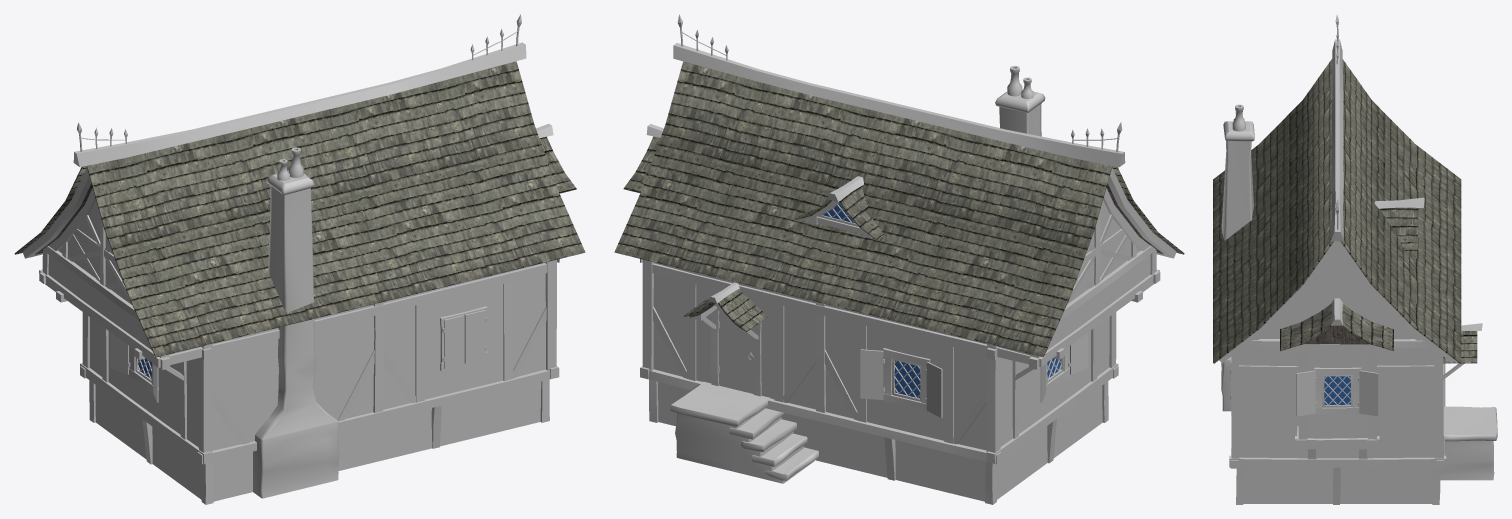
Rendered from mw_type_1_cottage_06.FBX.
3 views of the same model, side by side, from view 1: azimuth 30°, elevation 25°; view 2: azimuth 150°, elevation 25°; view 3: azimuth 270°, elevation 25° (orthographic). The views are drawn at different scales.
Visible parts, largest first — view 1: mw_type_1_cottage_06_roof, mw_type_1_cottage_06_stone, mw_type_1_cottage_06_wood, mw_type_1_cottage_06; view 2: mw_type_1_cottage_06_roof, mw_type_1_cottage_06_stone, mw_type_1_cottage_06_wood, mw_type_1_cottage_06; view 3: mw_type_1_cottage_06_roof, mw_type_1_cottage_06_stone, mw_type_1_cottage_06_wood, mw_type_1_cottage_06.
Boxes of the visible parts, x1=… form: mw_type_1_cottage_06_roof: x1=14, y1=61, x2=585, y2=357; mw_type_1_cottage_06_stone: x1=48, y1=147, x2=545, y2=501; mw_type_1_cottage_06_wood: x1=22, y1=42, x2=559, y2=504; mw_type_1_cottage_06: x1=77, y1=14, x2=559, y2=402; mw_type_1_cottage_06_roof: x1=614, y1=61, x2=1184, y2=357; mw_type_1_cottage_06_stone: x1=653, y1=66, x2=1150, y2=501; mw_type_1_cottage_06_wood: x1=640, y1=43, x2=1176, y2=504; mw_type_1_cottage_06: x1=640, y1=14, x2=1122, y2=417; mw_type_1_cottage_06_roof: x1=1213, y1=58, x2=1477, y2=363; mw_type_1_cottage_06_stone: x1=1221, y1=104, x2=1497, y2=503; mw_type_1_cottage_06_wood: x1=1219, y1=39, x2=1482, y2=504; mw_type_1_cottage_06: x1=1230, y1=14, x2=1378, y2=416.
Size of the model in its own units: 1614 by 1162 by 955.
